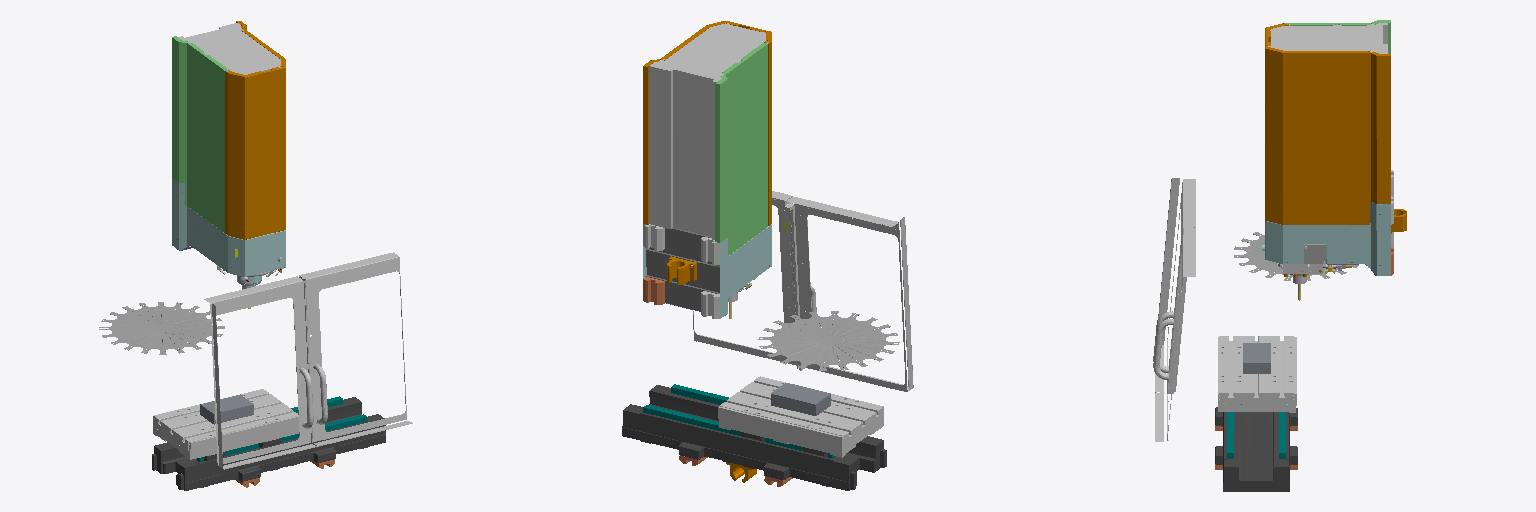
The robot description file, URDF, robot "haas_vf1":
<?xml version="1.0"?>
<robot name="haas_vf1">
  <!-- Generated by Docs/factory_machines/bl_export_urdf.py from urdf_spec_vf1.json. Masses and inertias are nominal box estimates; joint limits follow the FactoryDemo prefab animation. -->
  <link name="base_link">
    <inertial>
      <origin xyz="-6.00815e-05 0 1.42284" rpy="0 0 0" />
      <mass value="3200" />
      <inertia ixx="4758.1" ixy="0" ixz="0" iyy="4781.61" iyz="0" izz="5220.8" />
    </inertial>
    <visual>
      <origin xyz="0 0 0" rpy="0 0 0" />
      <geometry>
        <mesh filename="package://factory_machines_description/meshes/haas_vf1/visual/base_link.dae" />
      </geometry>
    </visual>
    <collision>
      <origin xyz="0 0 0" rpy="0 0 0" />
      <geometry>
        <mesh filename="package://factory_machines_description/meshes/haas_vf1/collision/base_link.stl" />
      </geometry>
    </collision>
  </link>
  <link name="door_left">
    <inertial>
      <origin xyz="4.32134e-07 0 -1.68681e-05" rpy="0 0 0" />
      <mass value="25" />
      <inertia ixx="1.77702" ixy="0" ixz="0" iyy="2.33398" iyz="0" izz="0.735752" />
    </inertial>
    <visual>
      <origin xyz="0 0 0" rpy="0 0 0" />
      <geometry>
        <mesh filename="package://factory_machines_description/meshes/haas_vf1/visual/door_left.dae" />
      </geometry>
    </visual>
    <collision>
      <origin xyz="0 0 0" rpy="0 0 0" />
      <geometry>
        <mesh filename="package://factory_machines_description/meshes/haas_vf1/collision/door_left.stl" />
      </geometry>
    </collision>
  </link>
  <link name="door_right">
    <inertial>
      <origin xyz="-1.49012e-08 2.23517e-07 2.37972e-05" rpy="0 0 0" />
      <mass value="25" />
      <inertia ixx="1.76791" ixy="0" ixz="0" iyy="2.34846" iyz="0" izz="0.758993" />
    </inertial>
    <visual>
      <origin xyz="0 0 0" rpy="0 0 0" />
      <geometry>
        <mesh filename="package://factory_machines_description/meshes/haas_vf1/visual/door_right.dae" />
      </geometry>
    </visual>
    <collision>
      <origin xyz="0 0 0" rpy="0 0 0" />
      <geometry>
        <mesh filename="package://factory_machines_description/meshes/haas_vf1/collision/door_right.stl" />
      </geometry>
    </collision>
  </link>
  <link name="head">
    <inertial>
      <origin xyz="0.000489309 0.166008 0.604652" rpy="0 0 0" />
      <mass value="300" />
      <inertia ixx="52.2369" ixy="0" ixz="0" iyy="43.6875" iyz="0" izz="16.9343" />
    </inertial>
    <visual>
      <origin xyz="0 0 0" rpy="0 0 0" />
      <geometry>
        <mesh filename="package://factory_machines_description/meshes/haas_vf1/visual/head.dae" />
      </geometry>
    </visual>
    <collision>
      <origin xyz="0 0 0" rpy="0 0 0" />
      <geometry>
        <mesh filename="package://factory_machines_description/meshes/haas_vf1/collision/head.stl" />
      </geometry>
    </collision>
  </link>
  <link name="spindle">
    <inertial>
      <origin xyz="4.3828e-05 -0.00102847 0.109936" rpy="0 0 0" />
      <mass value="40" />
      <inertia ixx="1.22015" ixy="0" ixz="0" iyy="1.22027" iyz="0" izz="0.198746" />
    </inertial>
    <visual>
      <origin xyz="0 0 0" rpy="0 0 0" />
      <geometry>
        <mesh filename="package://factory_machines_description/meshes/haas_vf1/visual/spindle.dae" />
      </geometry>
    </visual>
    <collision>
      <origin xyz="0 0 0" rpy="0 0 0" />
      <geometry>
        <mesh filename="package://factory_machines_description/meshes/haas_vf1/collision/spindle.stl" />
      </geometry>
    </collision>
  </link>
  <link name="saddle">
    <inertial>
      <origin xyz="6.55651e-07 8.04663e-07 -8.9854e-06" rpy="0 0 0" />
      <mass value="120" />
      <inertia ixx="2.37144" ixy="0" ixz="0" iyy="15.5772" iyz="0" izz="16.5232" />
    </inertial>
    <visual>
      <origin xyz="0 0 0" rpy="0 0 0" />
      <geometry>
        <mesh filename="package://factory_machines_description/meshes/haas_vf1/visual/saddle.dae" />
      </geometry>
    </visual>
    <collision>
      <origin xyz="0 0 0" rpy="0 0 0" />
      <geometry>
        <mesh filename="package://factory_machines_description/meshes/haas_vf1/collision/saddle.stl" />
      </geometry>
    </collision>
  </link>
  <link name="table">
    <inertial>
      <origin xyz="3.38256e-06 2.98023e-08 -5.64829e-05" rpy="0 0 0" />
      <mass value="150" />
      <inertia ixx="2.81261" ixy="0" ixz="0" iyy="6.3787" iyz="0" izz="7.34292" />
    </inertial>
    <visual>
      <origin xyz="0 0 0" rpy="0 0 0" />
      <geometry>
        <mesh filename="package://factory_machines_description/meshes/haas_vf1/visual/table.dae" />
      </geometry>
    </visual>
    <collision>
      <origin xyz="0 0 0" rpy="0 0 0" />
      <geometry>
        <mesh filename="package://factory_machines_description/meshes/haas_vf1/collision/table.stl" />
      </geometry>
    </collision>
  </link>
  <link name="carousel">
    <inertial>
      <origin xyz="0.0014444 -0.000694975 0.0021742" rpy="0 0 0" />
      <mass value="30" />
      <inertia ixx="1.05057" ixy="0" ixz="0" iyy="1.05057" iyz="0" izz="2.0956" />
    </inertial>
    <visual>
      <origin xyz="0 0 0" rpy="0 0 0" />
      <geometry>
        <mesh filename="package://factory_machines_description/meshes/haas_vf1/visual/carousel.dae" />
      </geometry>
    </visual>
    <collision>
      <origin xyz="0 0 0" rpy="0 0 0" />
      <geometry>
        <mesh filename="package://factory_machines_description/meshes/haas_vf1/collision/carousel.stl" />
      </geometry>
    </collision>
  </link>
  <joint name="door_left_slide" type="prismatic">
    <origin xyz="0.108974 -1.1731 1.27929" rpy="0 0 0" />
    <parent link="base_link" />
    <child link="door_left" />
    <axis xyz="-1 0 0" />
    <limit effort="500" velocity="0.5" lower="0" upper="0.55" />
  </joint>
  <joint name="door_right_slide" type="prismatic">
    <origin xyz="0.676974 -1.173 1.27808" rpy="0 0 0" />
    <parent link="base_link" />
    <child link="door_right" />
    <axis xyz="1 0 0" />
    <limit effort="500" velocity="0.5" lower="0" upper="0.55" />
  </joint>
  <joint name="head_z" type="prismatic">
    <origin xyz="0.393474 -0.559525 1.51429" rpy="0 0 0" />
    <parent link="base_link" />
    <child link="head" />
    <axis xyz="0 0 1" />
    <limit effort="500" velocity="0.35" lower="-0.4" upper="0" />
  </joint>
  <joint name="spindle_spin" type="continuous">
    <origin xyz="0 0 0" rpy="0 0 0" />
    <parent link="head" />
    <child link="spindle" />
    <axis xyz="0 0 1" />
    <limit effort="50" velocity="94.2" />
  </joint>
  <joint name="saddle_y" type="prismatic">
    <origin xyz="0.384417 -0.771073 0.608344" rpy="0 0 0" />
    <parent link="base_link" />
    <child link="saddle" />
    <axis xyz="0 1 0" />
    <limit effort="500" velocity="0.35" lower="0" upper="0.245" />
  </joint>
  <joint name="table_x" type="prismatic">
    <origin xyz="-0.245961 0.00317299 0.18505" rpy="0 0 0" />
    <parent link="saddle" />
    <child link="table" />
    <axis xyz="1 0 0" />
    <limit effort="500" velocity="0.35" lower="0" upper="0.333" />
  </joint>
  <joint name="carousel_index" type="continuous">
    <origin xyz="-0.129526 -0.559525 1.32429" rpy="0 0 0" />
    <parent link="base_link" />
    <child link="carousel" />
    <axis xyz="0 0 1" />
    <limit effort="200" velocity="1.5" />
  </joint>
</robot>

--- Render facts (derived) ---
3 views of the same robot in one strip: view 1: azimuth 30°, elevation 25°; view 2: azimuth 150°, elevation 25°; view 3: azimuth 270°, elevation 25° (orthographic).
Model haas_vf1 with 8 links and 7 joints (2 continuous, 5 prismatic), rooted at base_link, posed all joints at 0.
Links seen in each view (by area): view 1: head, table, saddle, door_left, door_right, carousel; view 2: head, saddle, table, door_left, carousel, door_right; view 3: head, saddle, table, door_left, door_right, carousel.
Boxes of the visible links, x1,y1,x2,y2 form: head: [172, 21, 285, 281]; table: [153, 389, 298, 460]; saddle: [152, 396, 385, 490]; door_left: [204, 276, 316, 469]; door_right: [299, 252, 412, 446]; carousel: [99, 302, 224, 354]; head: [643, 21, 787, 318]; saddle: [622, 384, 886, 490]; table: [718, 376, 883, 457]; door_left: [787, 197, 913, 391]; carousel: [758, 311, 899, 370]; door_right: [693, 191, 798, 368]; head: [1262, 20, 1406, 276]; saddle: [1215, 407, 1297, 491]; table: [1218, 336, 1296, 412]; door_left: [1153, 178, 1195, 392]; door_right: [1153, 228, 1195, 441]; carousel: [1234, 232, 1358, 280].
Size in the robot's own frame: 1.45 by 1.24 by 2.27 metres.
7 mesh visuals loaded from 8 distinct referenced files (7 Collada DAE); not drawn: 1 (reference not matched to a file when rendering).
